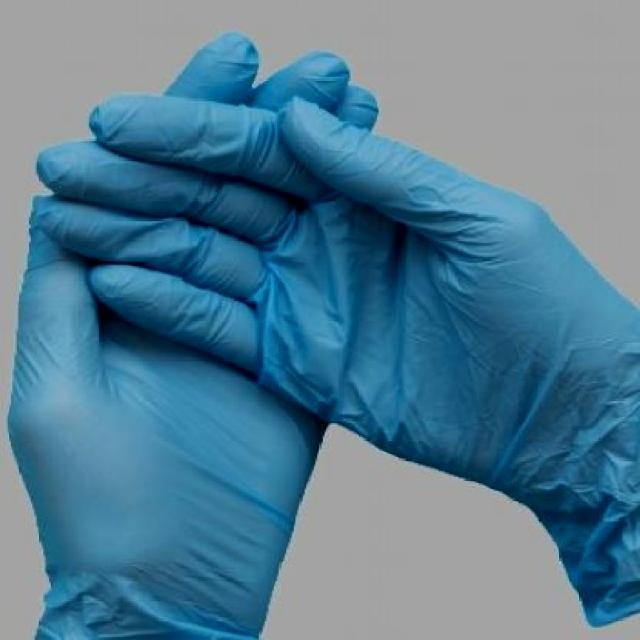glove: (7, 27, 636, 640)
